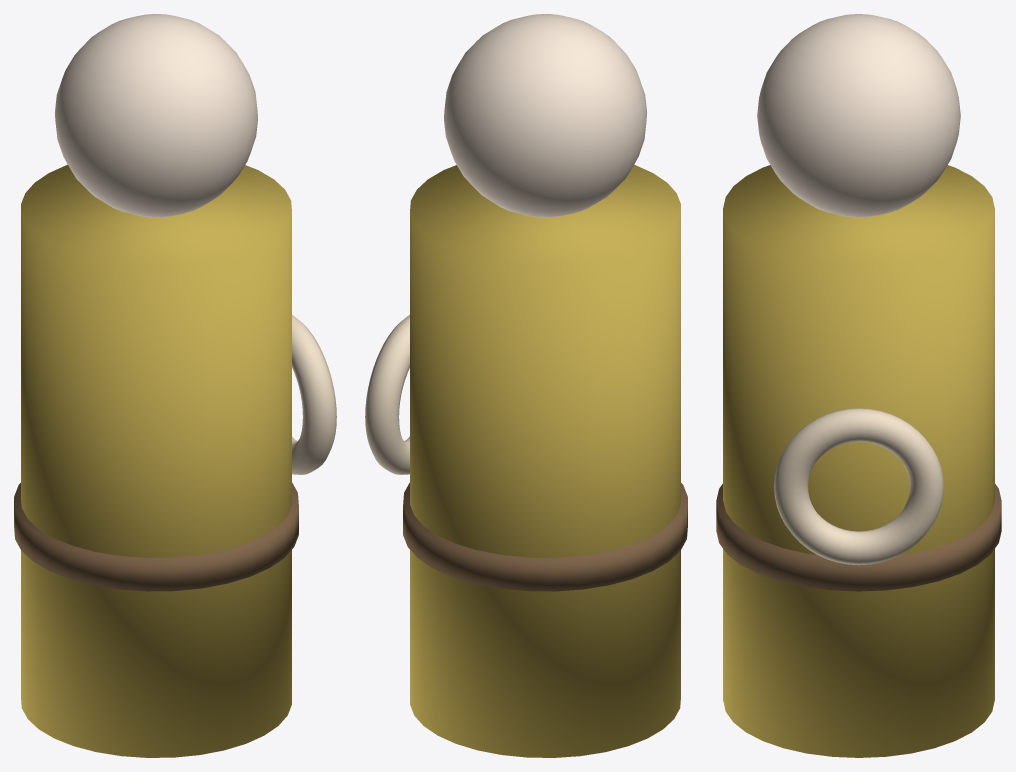
File: trapper.glb
3 renders of one model, left to right at view 1: azimuth 30°, elevation 25°; view 2: azimuth 150°, elevation 25°; view 3: azimuth 270°, elevation 25°, orthographic.
Parts seen in each view (by area): view 1: Body, Head, Belt, Rope; view 2: Body, Head, Belt, Rope; view 3: Body, Head, Rope, Belt.
Part boxes in pixels (x1,y1,x2,y2): Body: (21,164,291,757); Head: (55,14,257,217); Belt: (14,482,298,591); Rope: (292,315,336,474); Body: (410,164,680,757); Head: (444,14,646,217); Belt: (403,482,687,591); Rope: (365,315,409,474); Body: (723,165,994,757); Head: (757,14,960,217); Rope: (774,408,943,565); Belt: (716,484,1001,591).
Size of the model in its own units: 0.4551 by 1.1 by 0.42.
